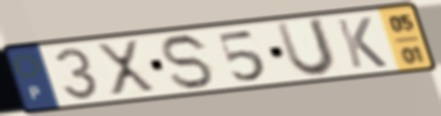3: (49, 46, 102, 102)
5: (215, 27, 268, 84)
K: (333, 15, 391, 70)
S: (160, 32, 218, 92)
U: (272, 16, 340, 79)
X: (93, 38, 160, 98)
